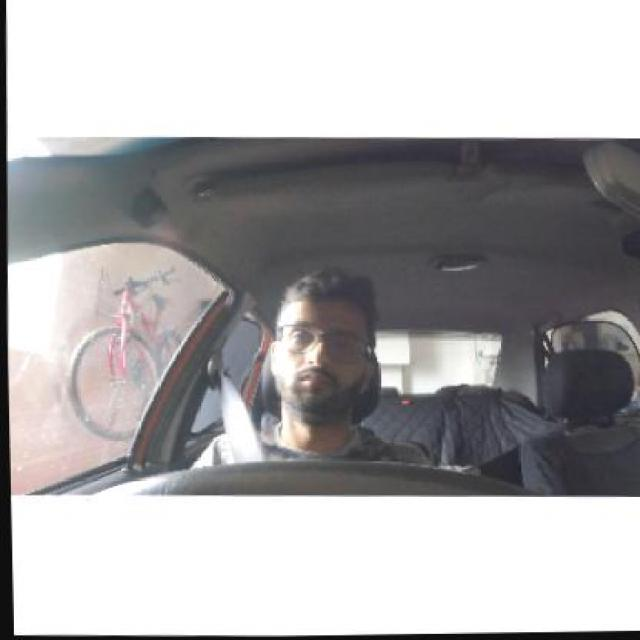person: (263, 262, 389, 436)
